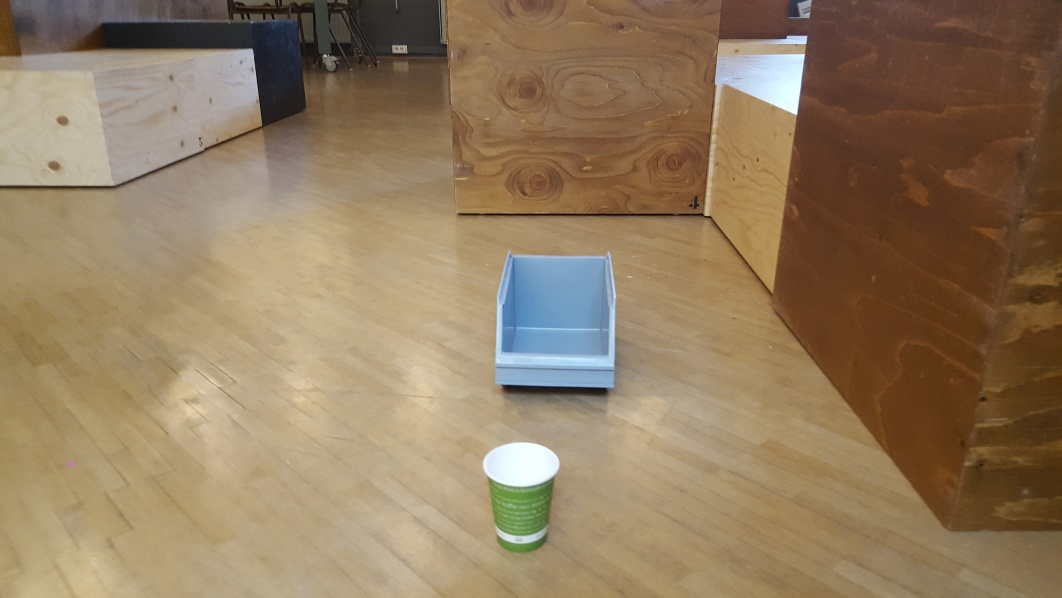cup: (479, 440, 565, 554)
tray: (493, 249, 620, 393)
